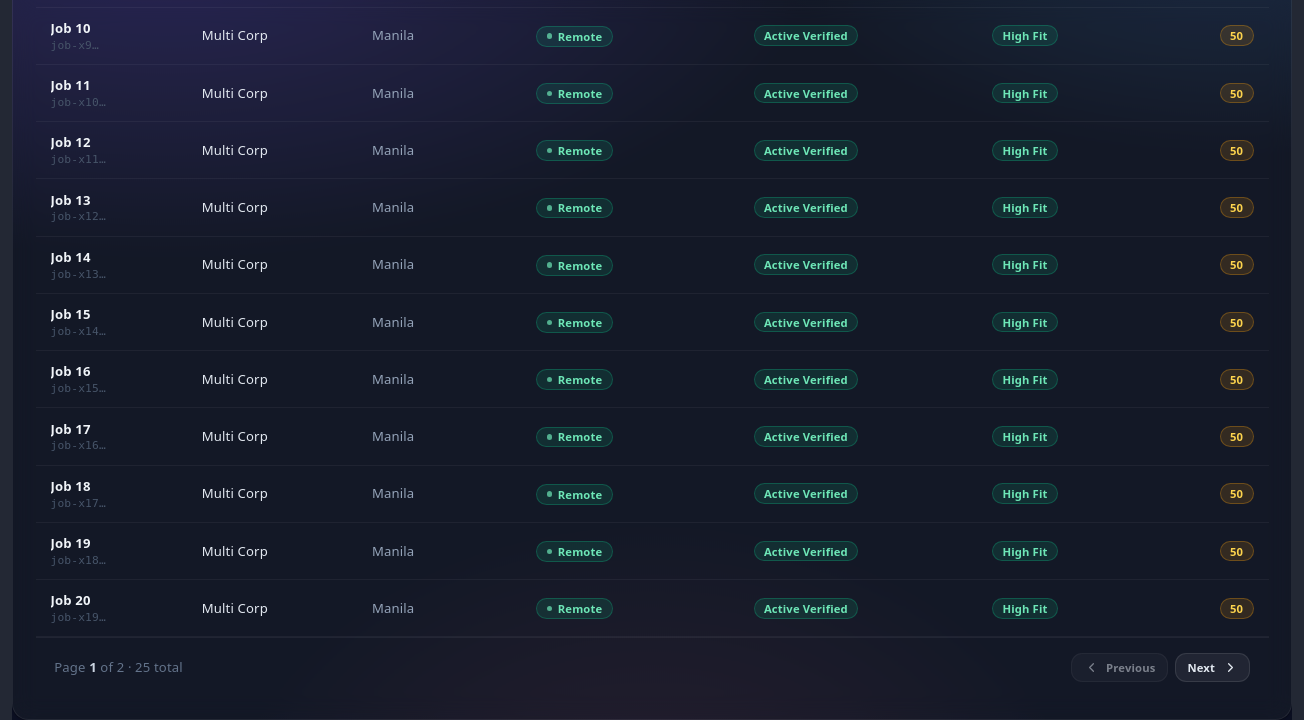
Jobs › paginates a long list and pages through it
(page scrolled)
Check: the element showing "Page 1 of 2 · 25 total" is shown, box x1=54 y1=658 x2=183 y2=677
Check: the button "Previous" is disabled, box x1=1071 y1=653 x2=1168 y2=682
Click the button "Next": (1212, 668) x1=1175 y1=653 x2=1250 y2=682
(page scrolled)
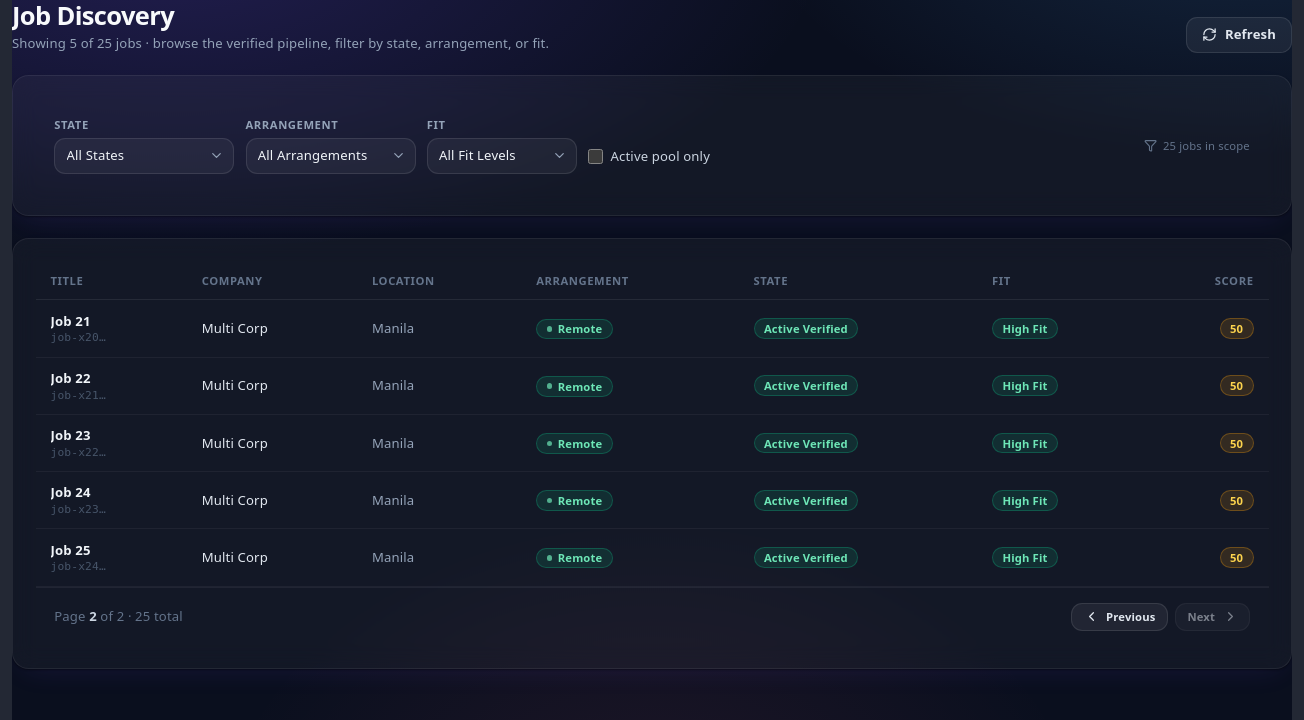
Check: the text "Showing 5 of 25 jobs" is shown, box x1=12 y1=34 x2=142 y2=52
Check: the link "Job 21" is shown, box x1=50 y1=312 x2=91 y2=330
Check: the link "Job 1" is gone
